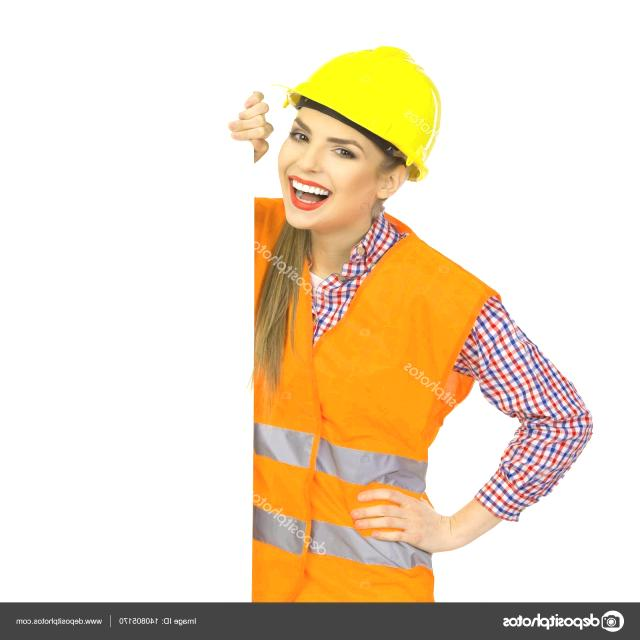face_nomask: (272, 119, 380, 221)
hand_noglove: (347, 491, 467, 554)
head_helmet: (267, 40, 453, 174)
person: (208, 21, 546, 586)
vest: (256, 202, 447, 600)
